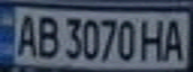0: (115, 16, 139, 62), (78, 15, 100, 62)
3: (60, 14, 84, 61)
7: (100, 16, 121, 62)
A: (157, 15, 190, 62), (9, 9, 39, 57)
B: (33, 11, 60, 60)
H: (139, 16, 169, 62)
